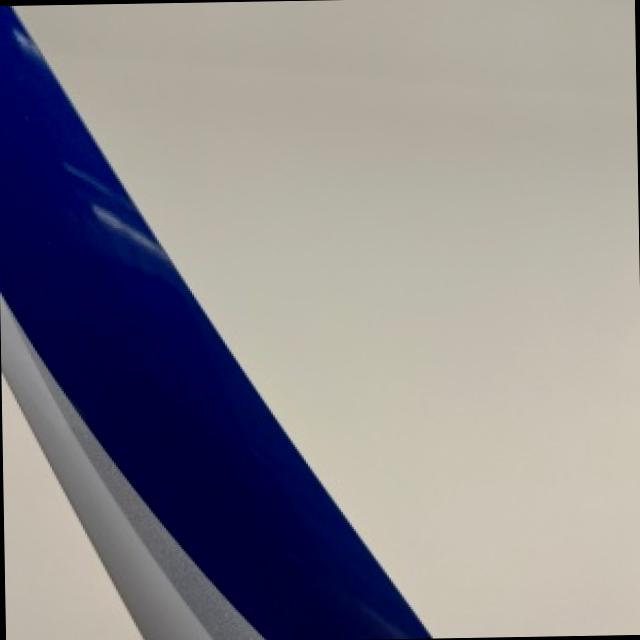healthy: (0, 5, 428, 640)
